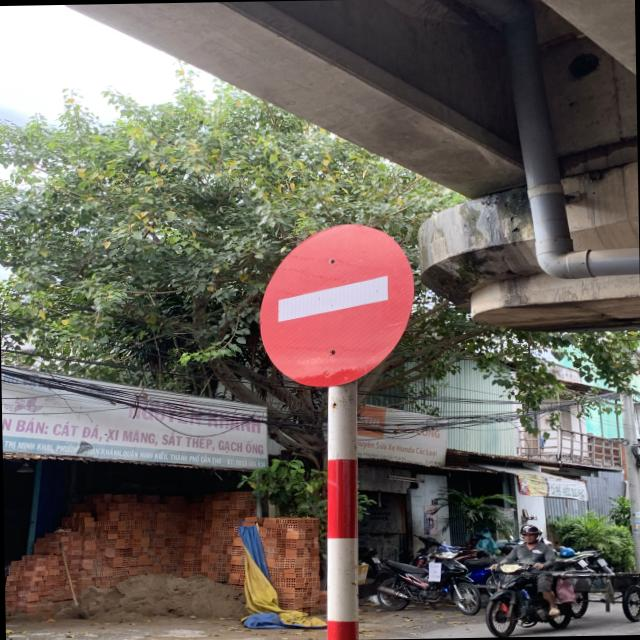Cam_Di_Nguoc_Chieu: (259, 216, 415, 389)
